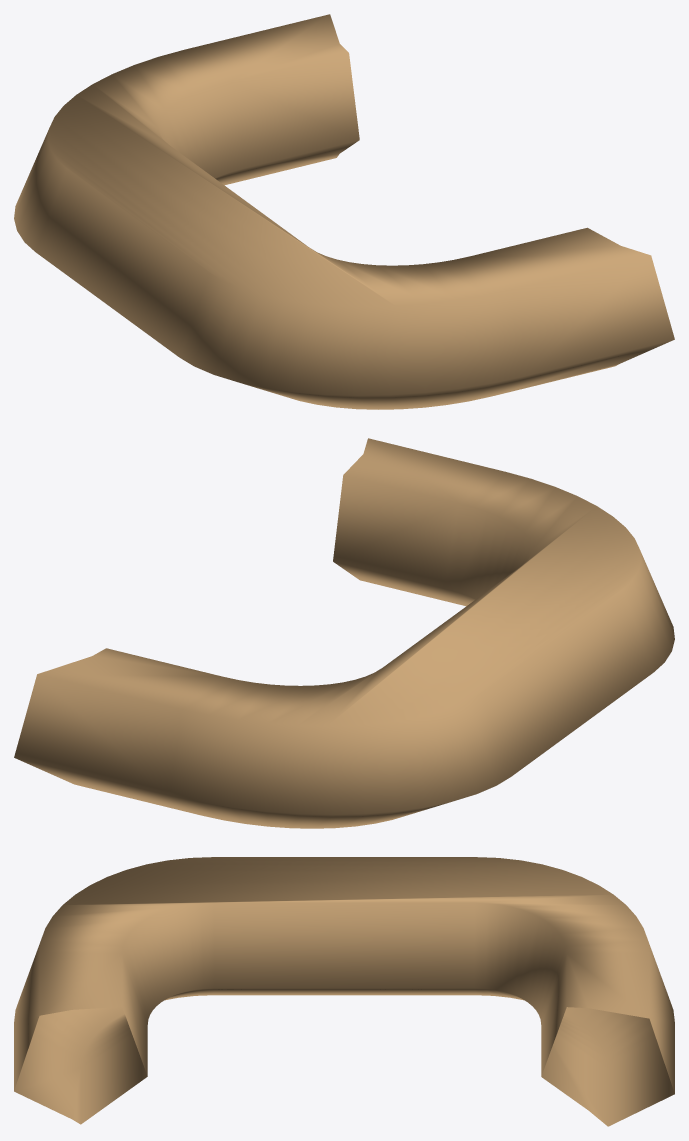
Rendered from original-9.obj.
3 views of the same model, one above another, from view 1: azimuth 30°, elevation 25°; view 2: azimuth 150°, elevation 25°; view 3: azimuth 270°, elevation 25° (orthographic). The views are drawn at different scales.
Parts seen in each view (by area): view 1: Group5/mesh7/mesh7-geometry#mesh7-geometry; view 2: Group5/mesh7/mesh7-geometry#mesh7-geometry; view 3: Group5/mesh7/mesh7-geometry#mesh7-geometry.
Boxes of the visible parts, x1,y1,x2,y2 form: Group5/mesh7/mesh7-geometry#mesh7-geometry: (14, 14, 674, 409); Group5/mesh7/mesh7-geometry#mesh7-geometry: (14, 438, 674, 828); Group5/mesh7/mesh7-geometry#mesh7-geometry: (14, 857, 674, 1126).
Bounding box in the file's own units: 0.3195 × 0.0954 × 0.4958.
